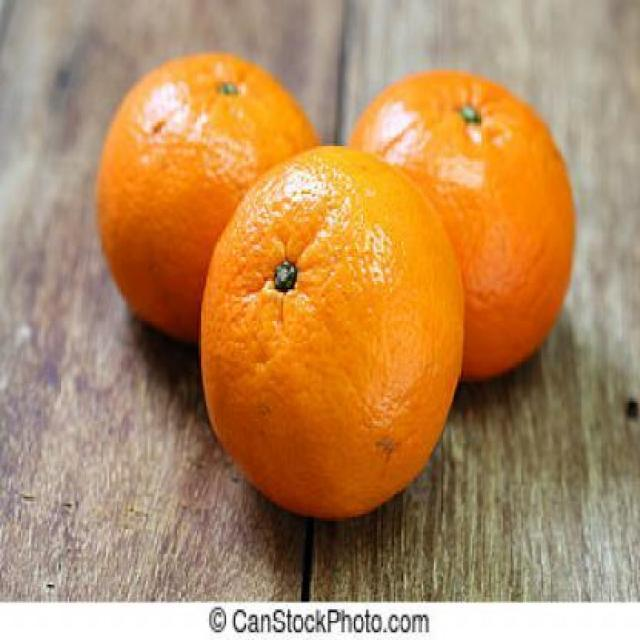Jeruk Sudah Matang: (203, 145, 464, 527), (336, 68, 576, 384), (96, 50, 329, 350)
